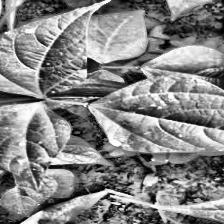Bean Rust: (0, 0, 104, 99), (88, 77, 224, 150), (0, 101, 68, 176)
